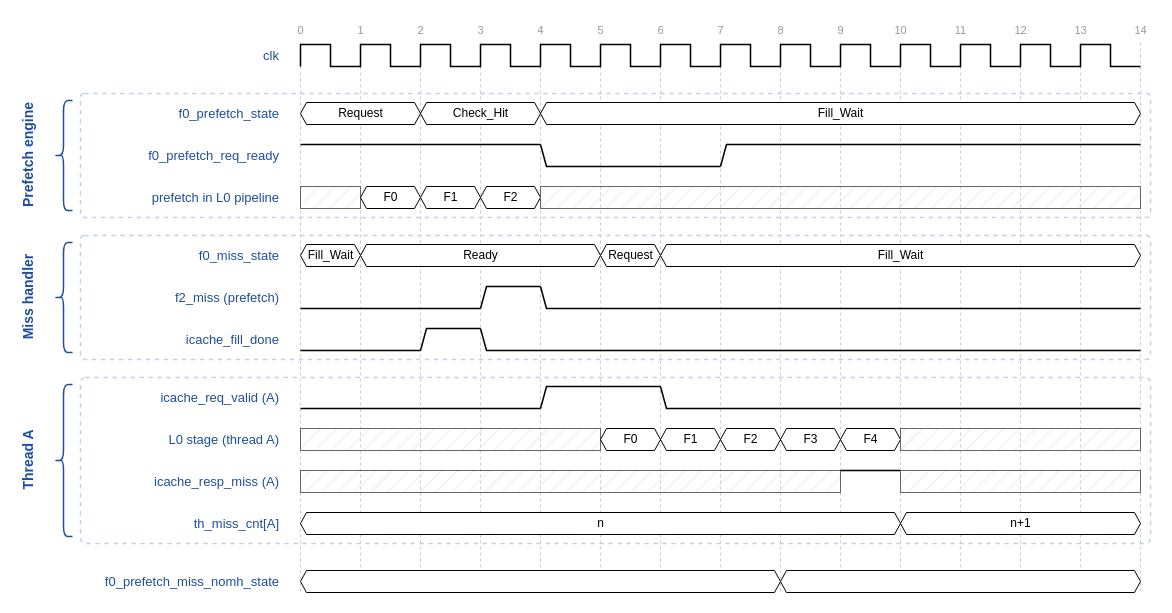
Image size: 1172x613. Some labels were removed from this diagram. The shapes that lost their labels are listed below. From the top down, each one's centre as x and y in pixels, then its label:
the point at 540,581: NotPending
the point at 960,581: FillDone_Wait
